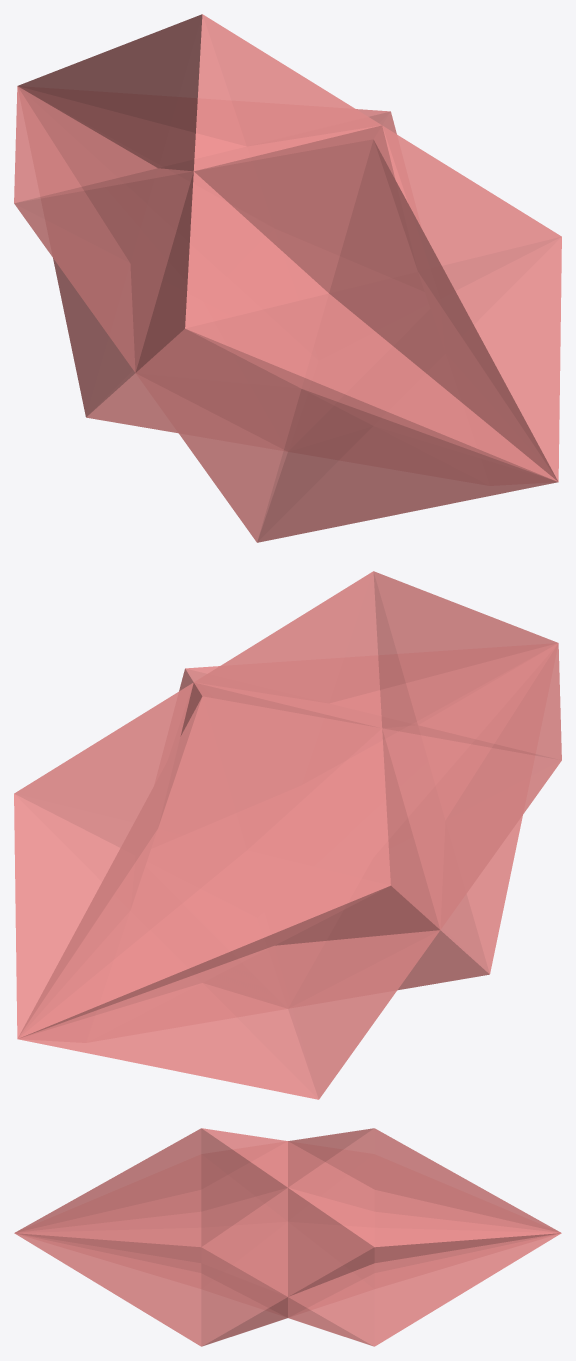
File: 33_PentagrammicAntiprismAugmented.obj
3 views of the same model, one above another, from view 1: azimuth 30°, elevation 25°; view 2: azimuth 150°, elevation 25°; view 3: azimuth 270°, elevation 25° (orthographic). The views are drawn at different scales.
Size of the model in its own units: 1 by 0.9511 by 2.49.
